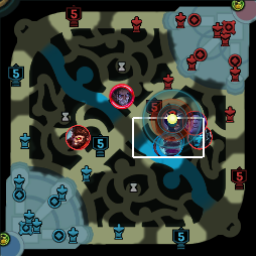braum: (159, 132, 183, 157)
kalista: (188, 126, 212, 149)
monkeyking: (66, 124, 90, 150)
sylas: (109, 83, 132, 106)
talon: (162, 107, 185, 132)
taric: (182, 111, 207, 133)
